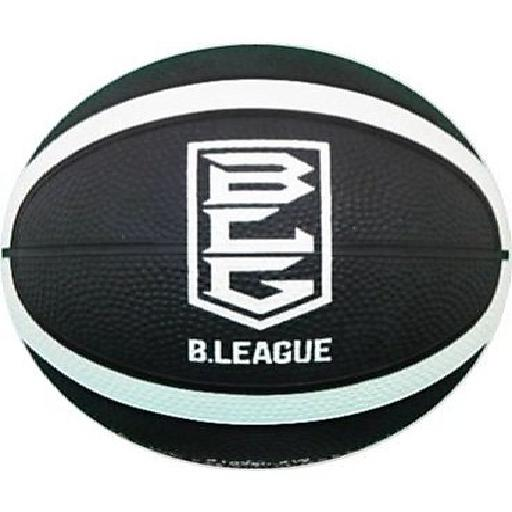ball: (3, 46, 512, 470)
